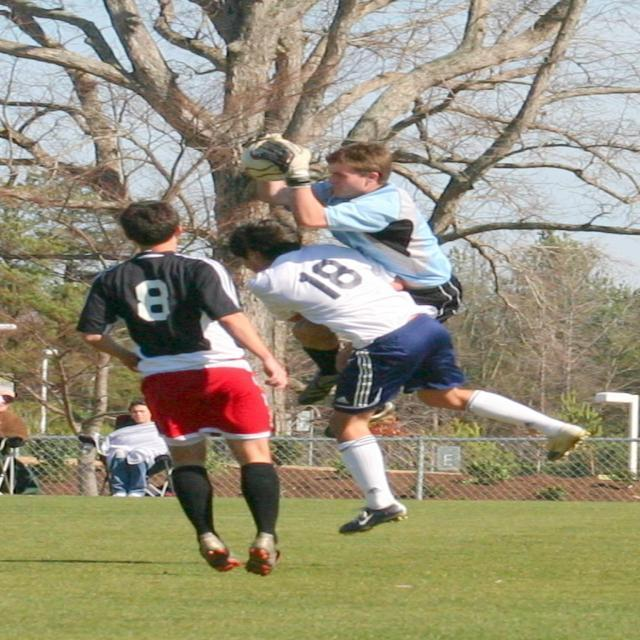ball: (237, 136, 305, 186)
